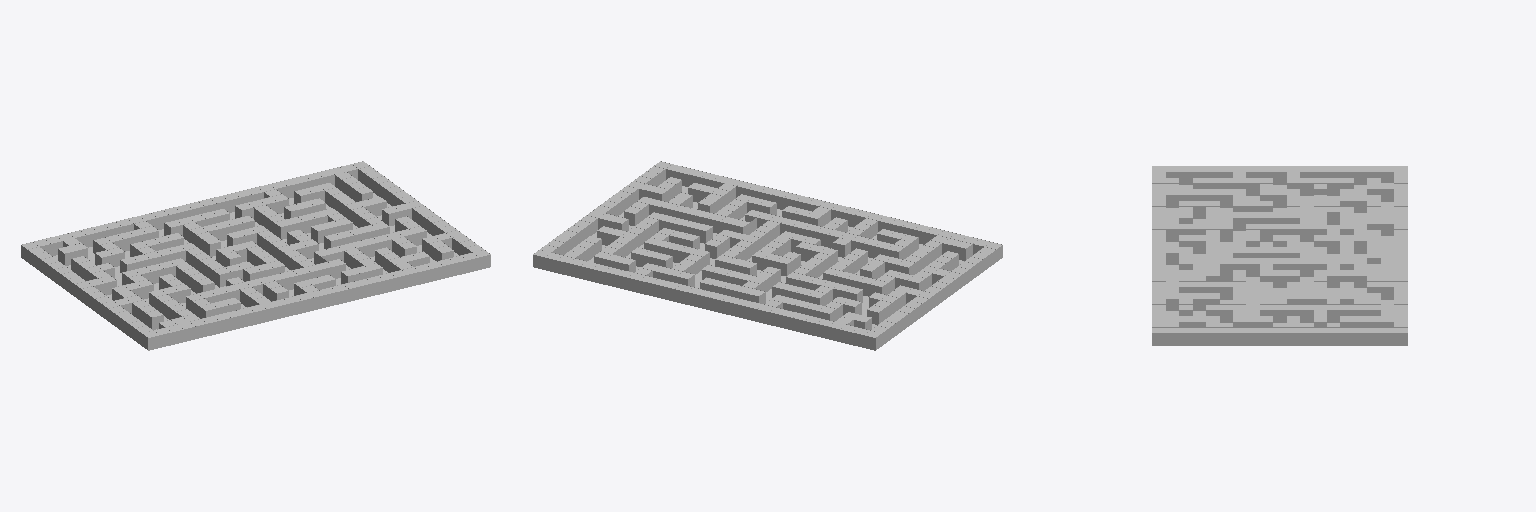
The model's file is Basic_Dungeon_Map.obj.
The picture shows the model from 3 angles: view 1: azimuth 30°, elevation 25°; view 2: azimuth 150°, elevation 25°; view 3: azimuth 270°, elevation 25°; orthographic projection.
Visible parts, largest first — view 1: pPlane1; view 2: pPlane1; view 3: pPlane1.
Part boxes in pixels (bbox=[...]): pPlane1: bbox=[21, 161, 490, 350]; pPlane1: bbox=[533, 161, 1002, 350]; pPlane1: bbox=[1152, 166, 1407, 345].
Bounding box in the file's own units: 5.71 × 0.2032 × 3.68.